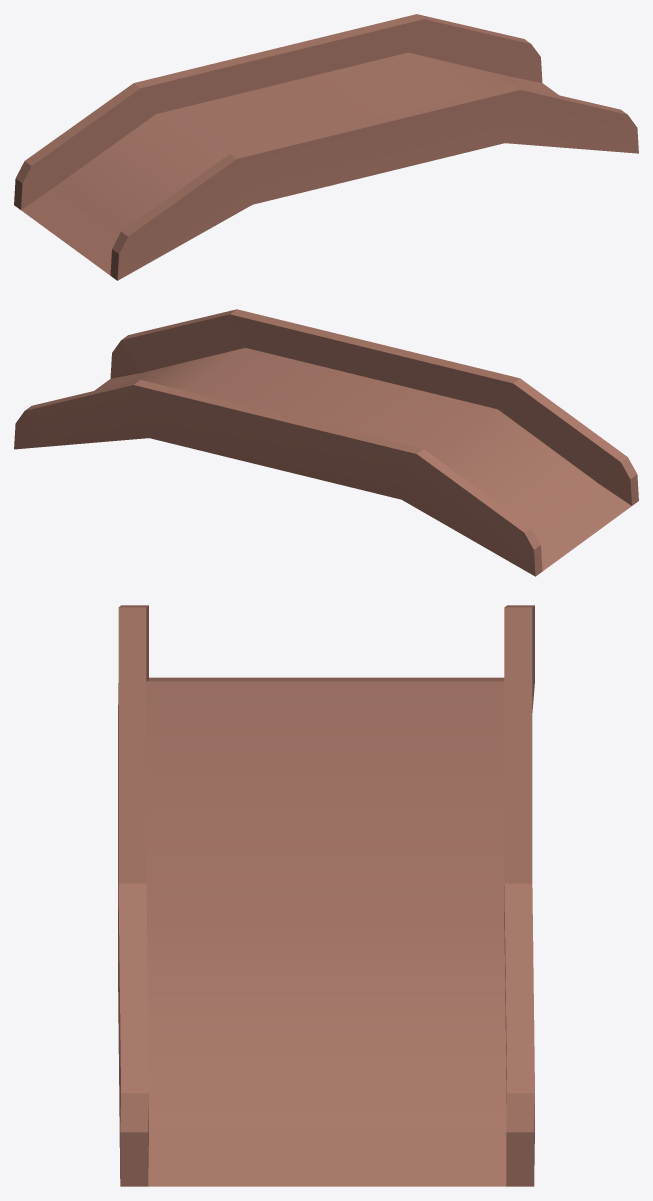
The model's file is bridge.fbx.
The picture shows the model from 3 angles, top to bottom: view 1: azimuth 30°, elevation 25°; view 2: azimuth 150°, elevation 25°; view 3: azimuth 270°, elevation 25°; orthographic projection. The views are drawn at different scales.
Visible parts, largest first — view 1: bridge1; view 2: bridge1; view 3: bridge1.
Boxes of the visible parts, x1,y1,x2,y2 form: bridge1: (14,14,638,280); bridge1: (14,309,638,576); bridge1: (118,605,534,1186).
Bounding box in the file's own units: 24.51 × 4.19 × 8.49.
